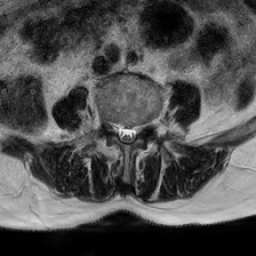CCS_stenosis: (123, 118, 130, 149)
LFS_normal: (137, 116, 145, 139)
LLS_normal: (130, 118, 137, 147)
RFS_normal: (107, 113, 115, 138)
RLS_normal: (115, 116, 123, 147)
